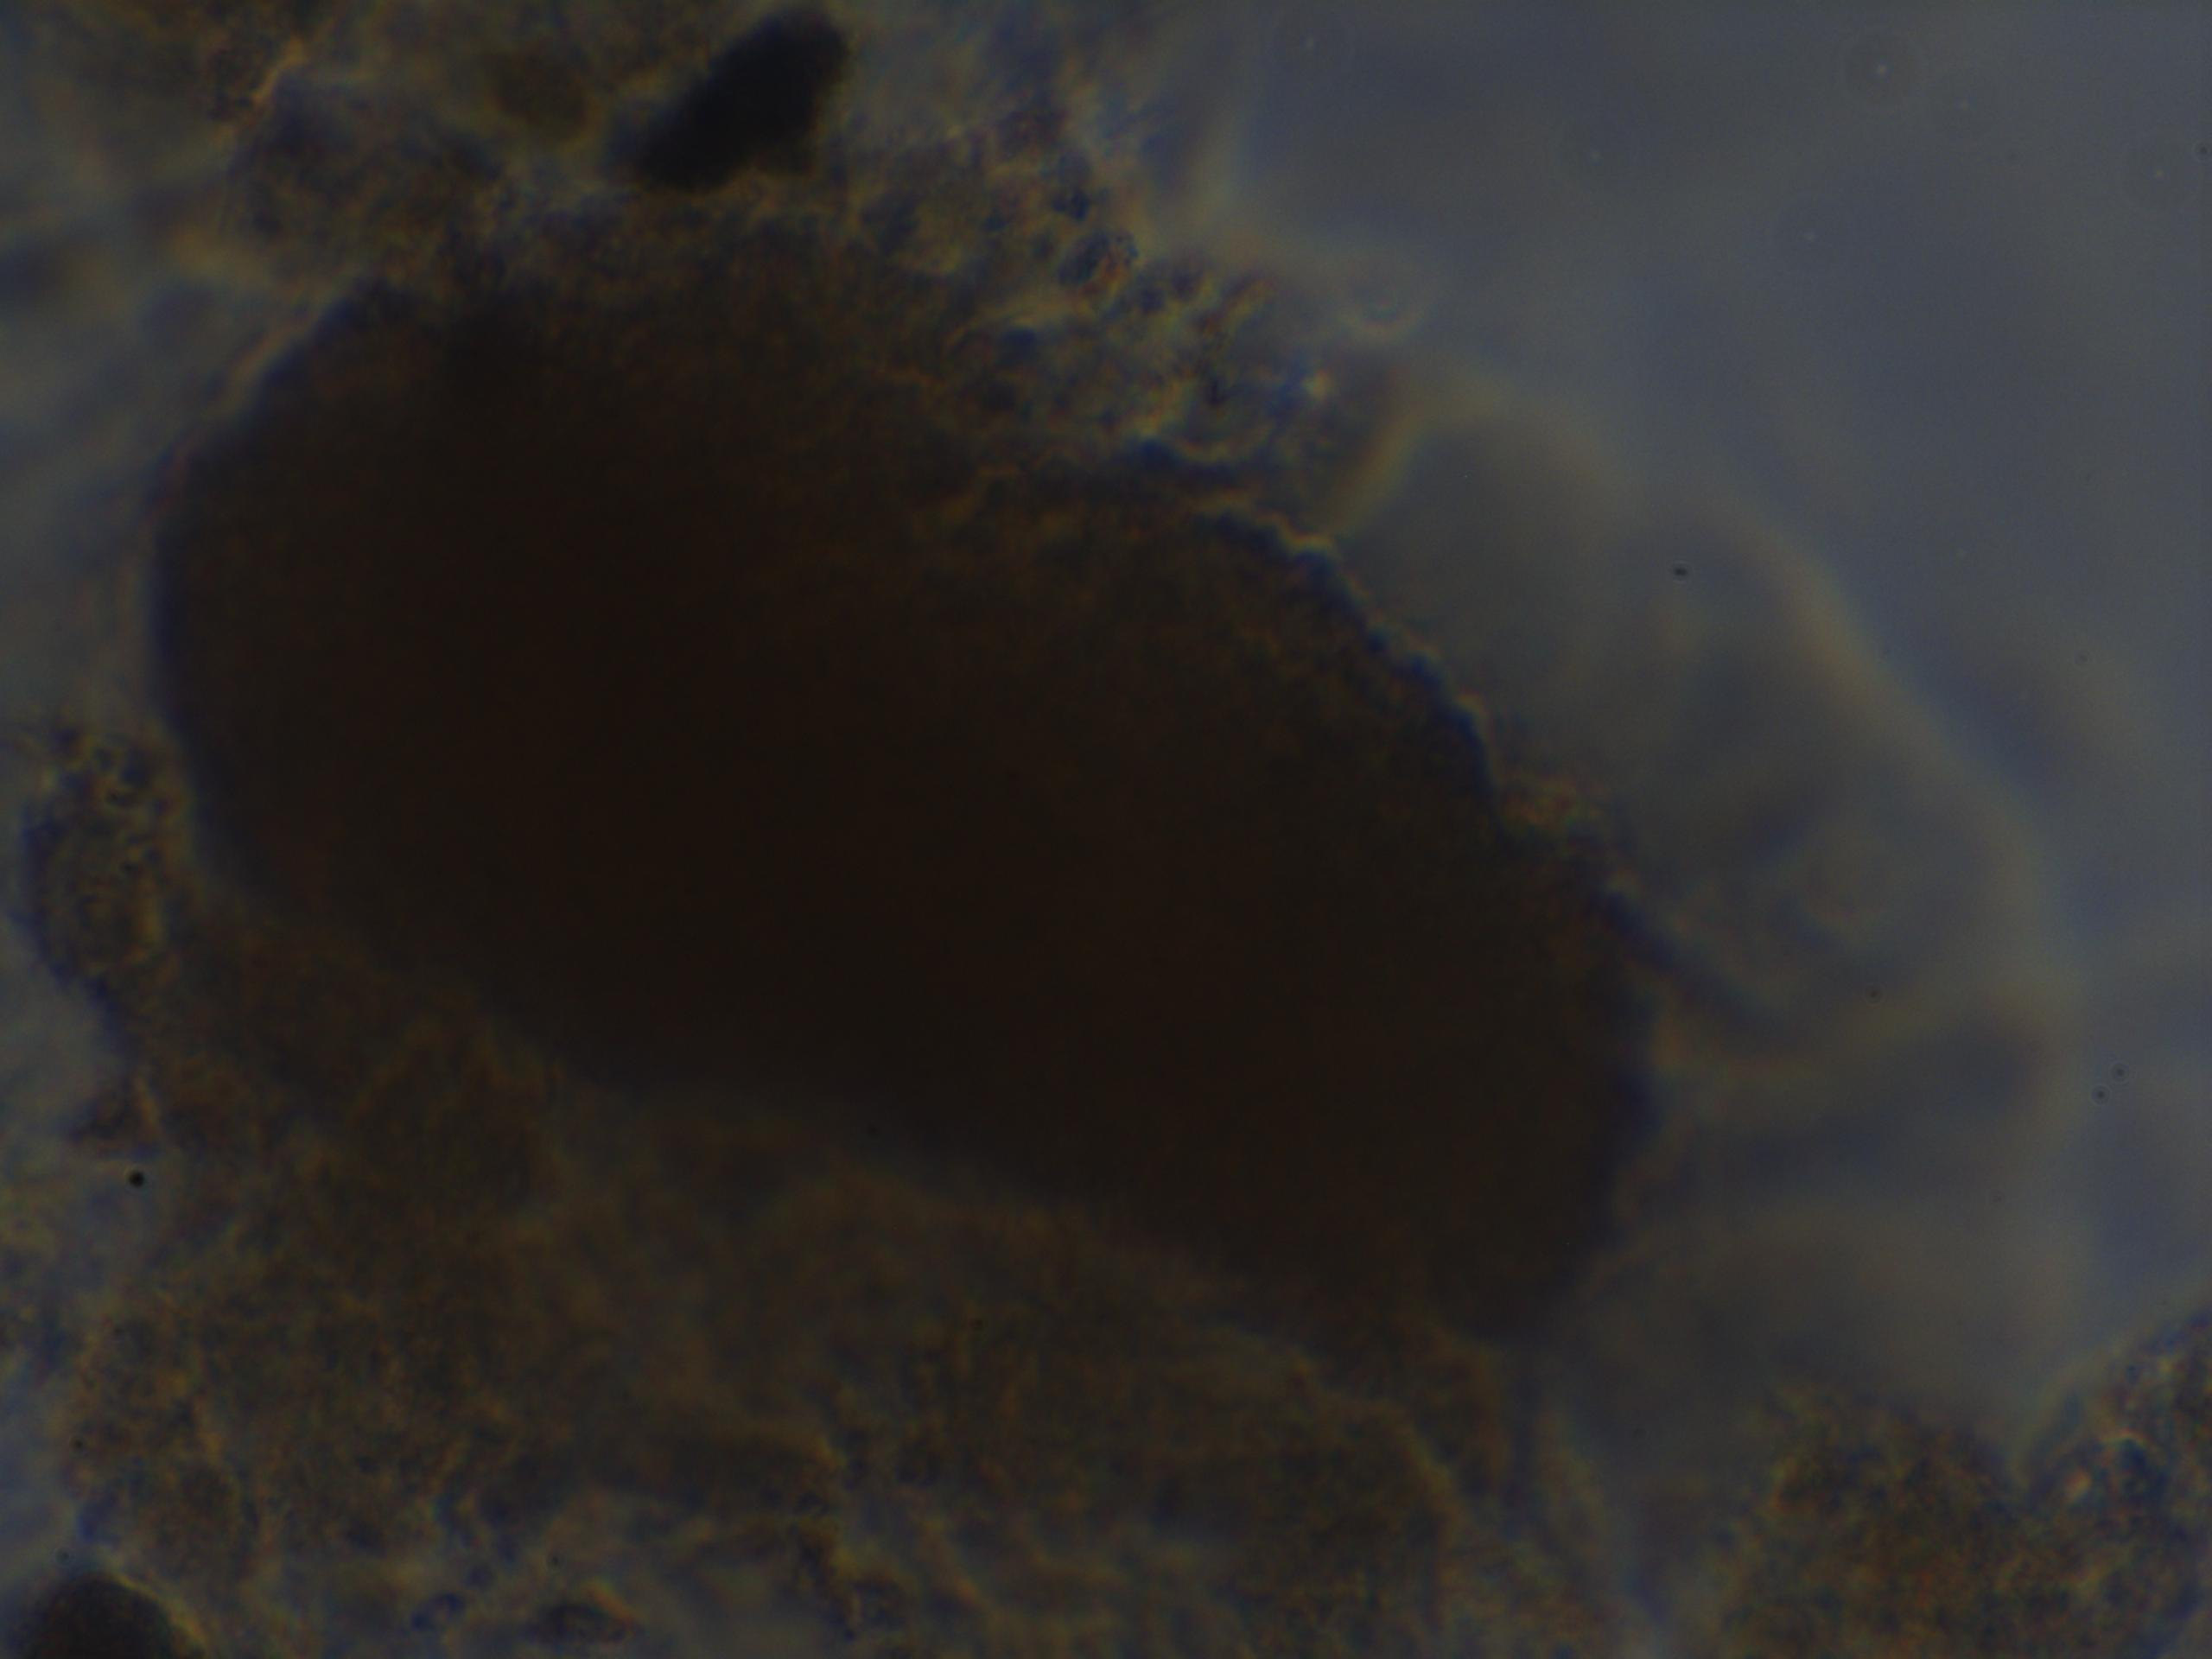spherical_floc: (124, 220, 1696, 1359)
